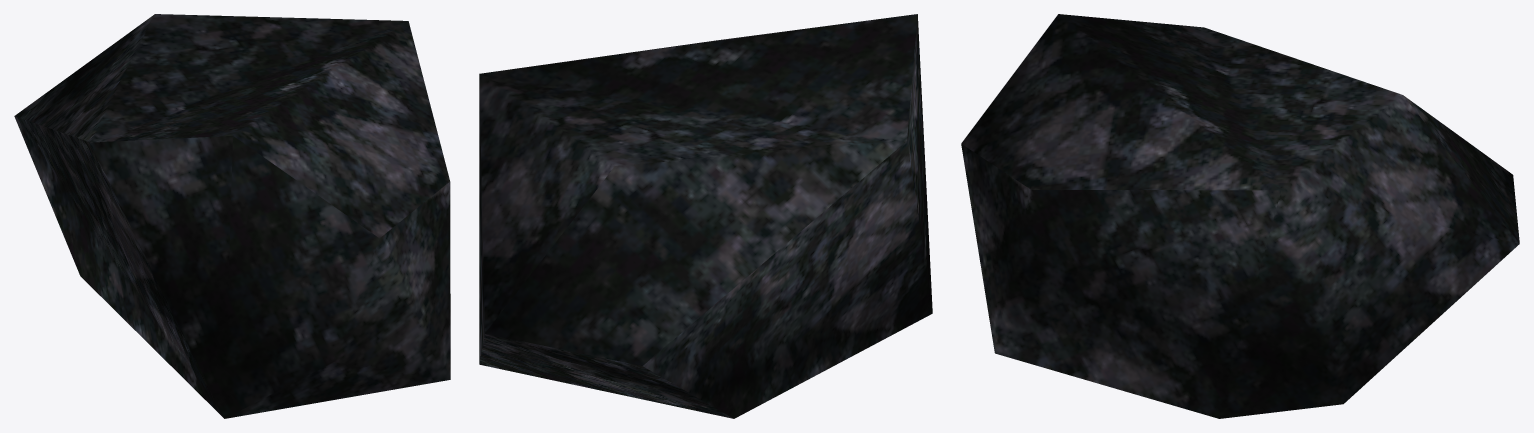
Rendered from asteroid_obsidian_radial_s02_l3.fbx.
3 views of the same model, side by side, from view 1: azimuth 30°, elevation 25°; view 2: azimuth 150°, elevation 25°; view 3: azimuth 270°, elevation 25° (orthographic). The views are drawn at different scales.
Parts seen in each view (by area): view 1: mesh_node; view 2: mesh_node; view 3: mesh_node.
Boxes of the visible parts, x1,y1,x2,y2 form: mesh_node: (14, 14, 450, 418); mesh_node: (479, 14, 932, 418); mesh_node: (961, 14, 1519, 418).
Bounding box in the file's own units: 4.61 × 3.65 × 6.5.
1 material, 1 textured.
